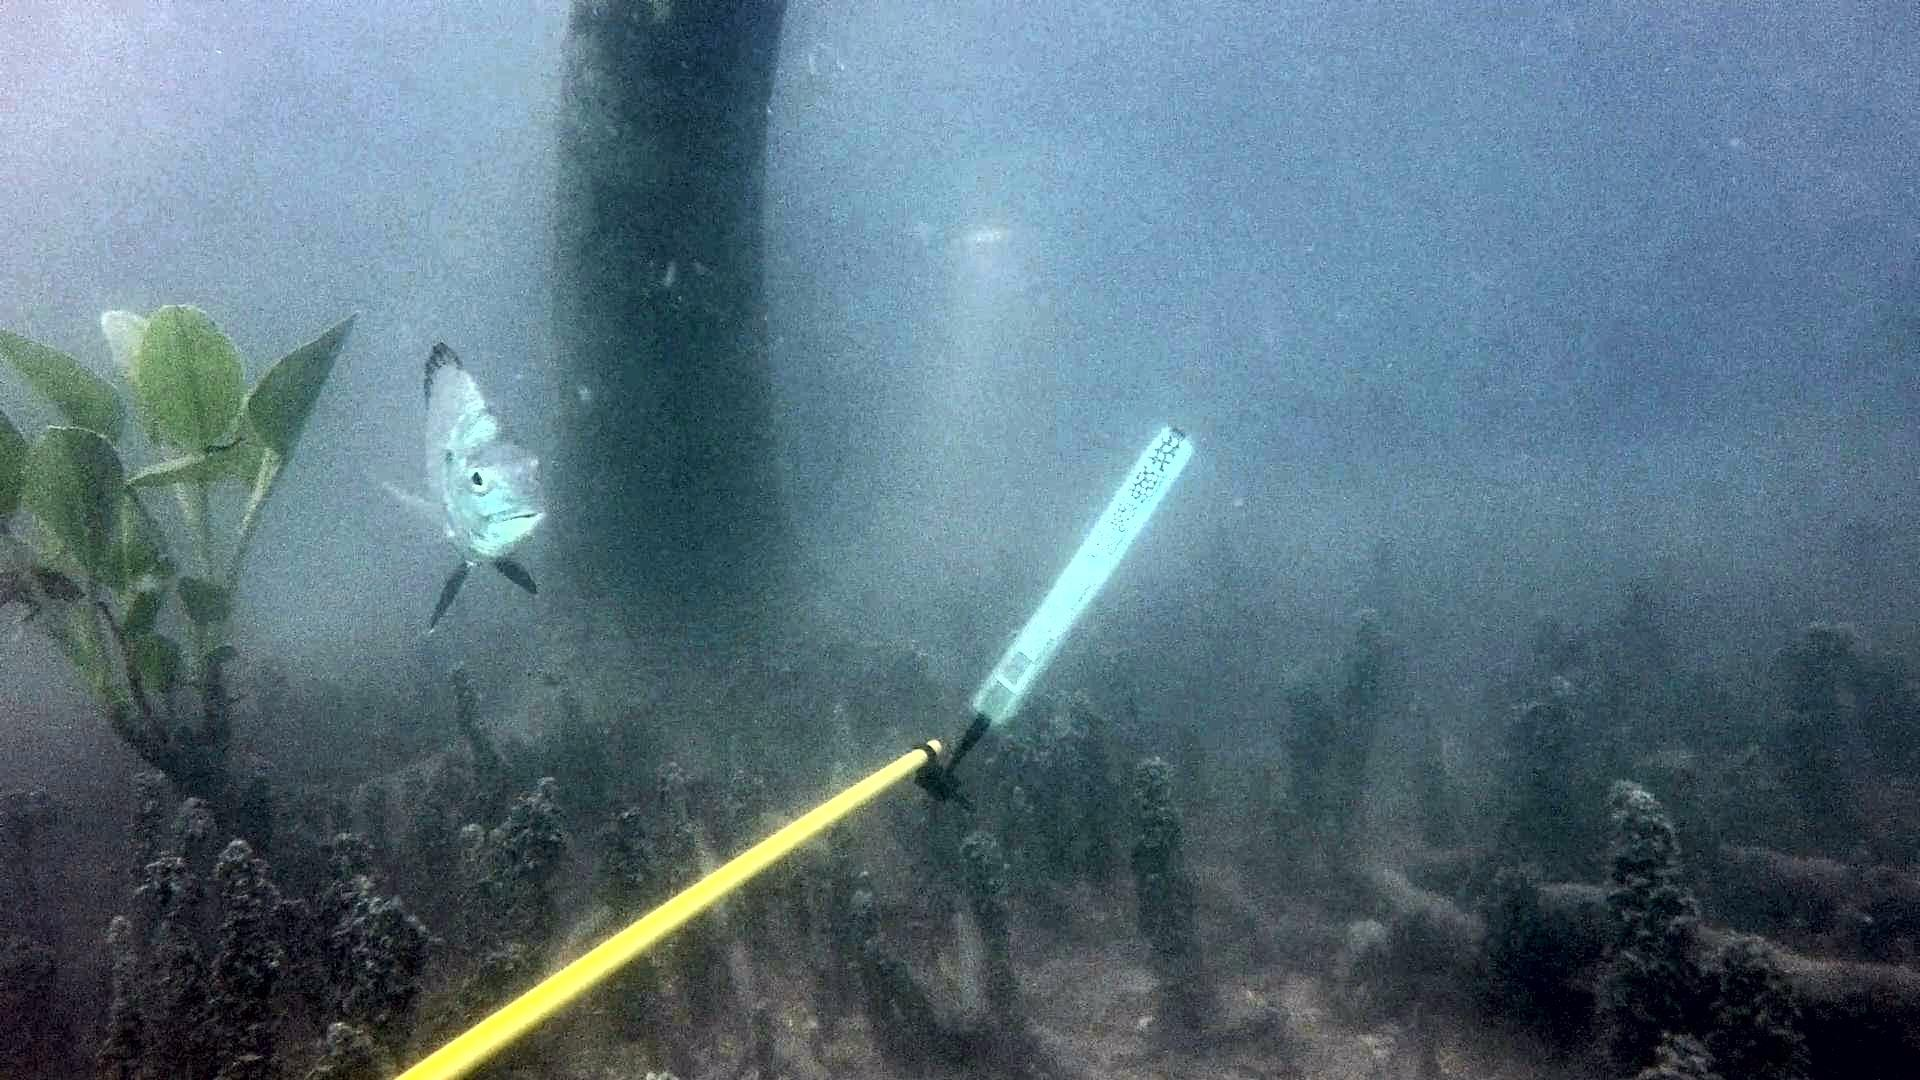acanthopagrus palmaris: (365, 331, 572, 637)
